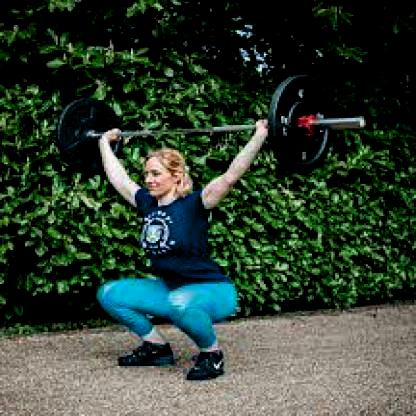Barbell: (356, 115, 371, 131)
